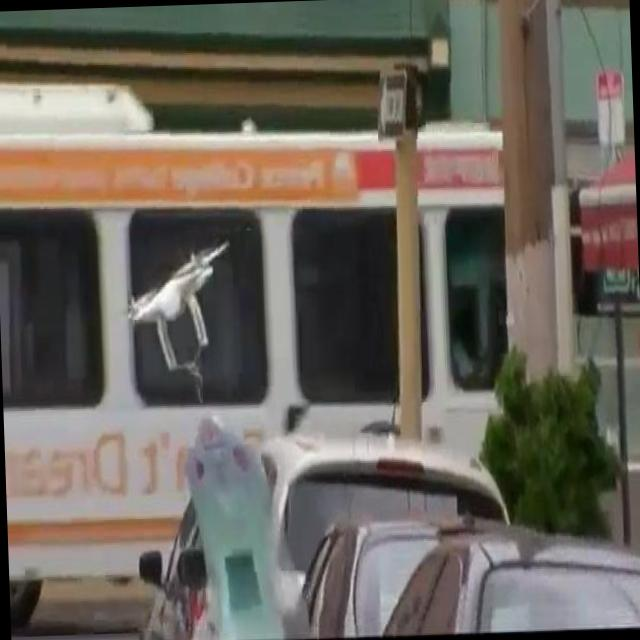drone: (122, 237, 238, 394)
